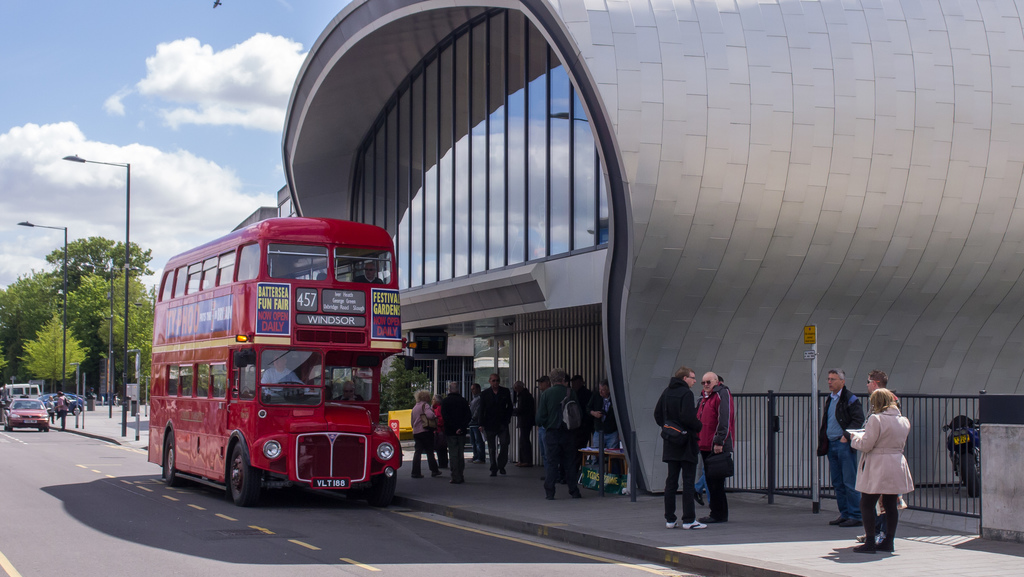mobil: (4, 394, 50, 435)
